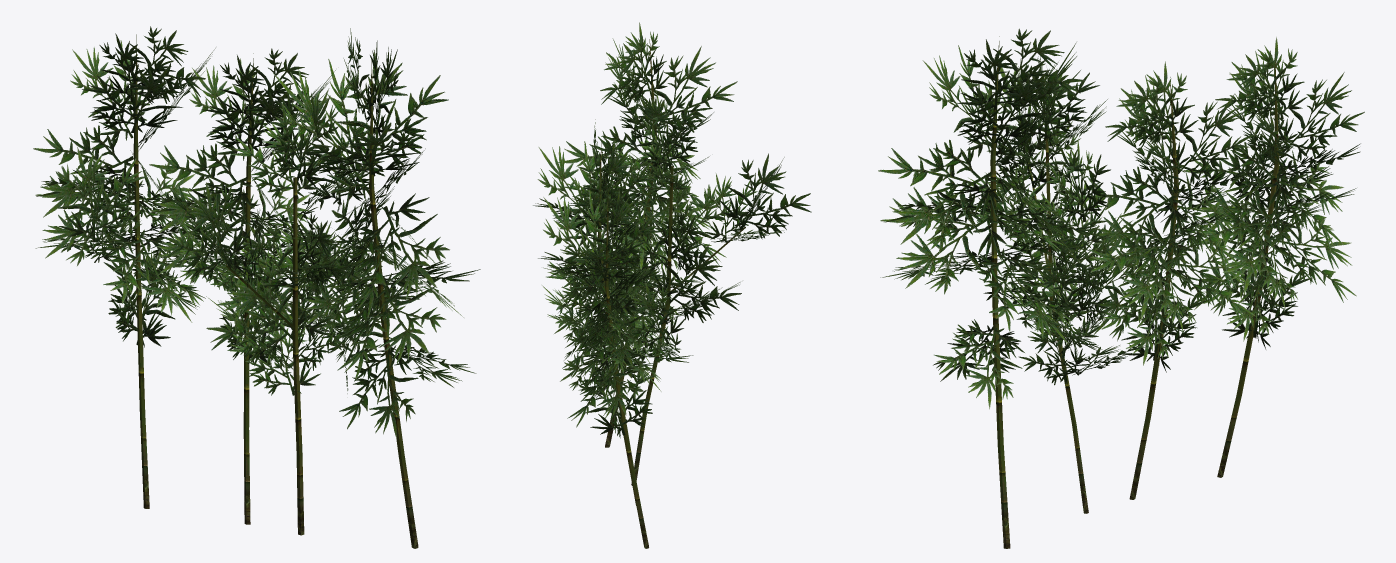
File: tree_g.FBX
3 views of the same model, side by side, from view 1: azimuth 30°, elevation 25°; view 2: azimuth 150°, elevation 25°; view 3: azimuth 270°, elevation 25° (orthographic). The views are drawn at different scales.
Parts seen in each view (by area): view 1: tree_g; view 2: tree_g; view 3: tree_g.
Part boxes in pixels (x1,y1,x2,y2): tree_g: (33, 26, 480, 548); tree_g: (533, 22, 811, 548); tree_g: (878, 28, 1364, 548).
Size of the model in its own units: 6.99 by 10.38 by 9.6.
Materials: 1 (1 with a texture image).
